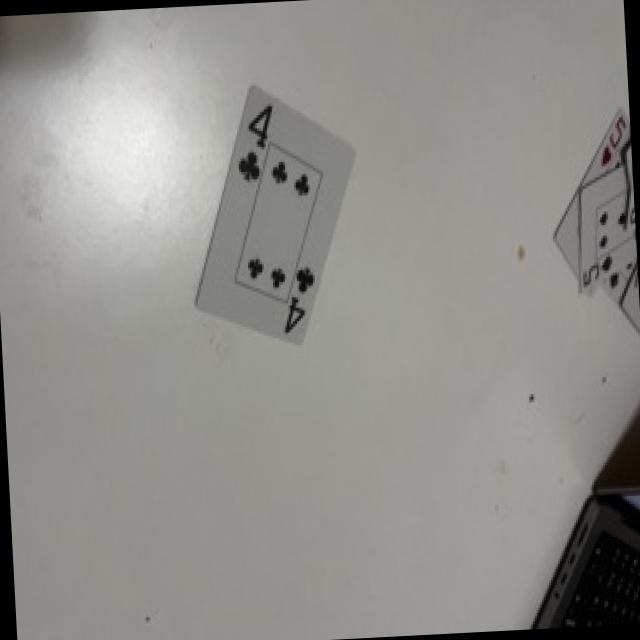4 of clubs: (197, 88, 353, 344)
